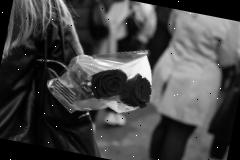organic: (86, 59, 126, 102), (123, 70, 154, 110)
